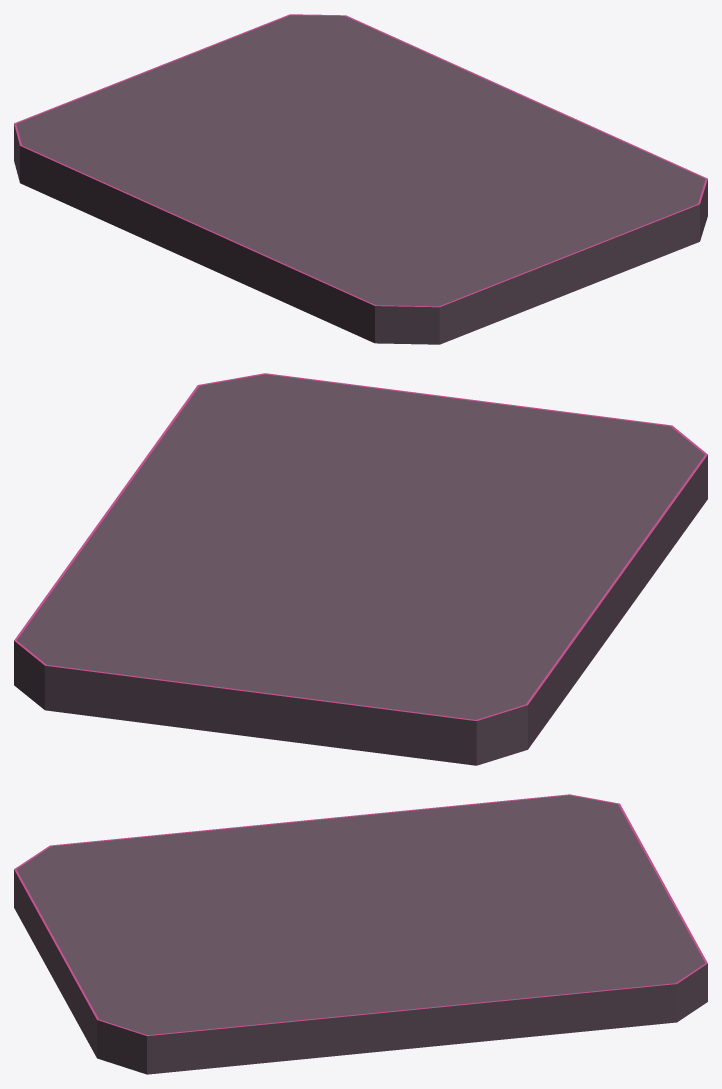
Rendered from way-1351248940.glb.
The picture shows the model from 3 angles, top to bottom: view 1: azimuth 30°, elevation 25°; view 2: azimuth 150°, elevation 25°; view 3: azimuth 270°, elevation 25°; orthographic projection. The views are drawn at different scales.
Parts seen in each view (by area): view 1: way-1351248940; view 2: way-1351248940; view 3: way-1351248940.
Part boxes in pixels (x1=…): way-1351248940: x1=14, y1=14, x2=707, y2=344; way-1351248940: x1=14, y1=373, x2=707, y2=765; way-1351248940: x1=14, y1=794, x2=707, y2=1074.
Size of the model in its own units: 40.49 by 3 by 49.09.
